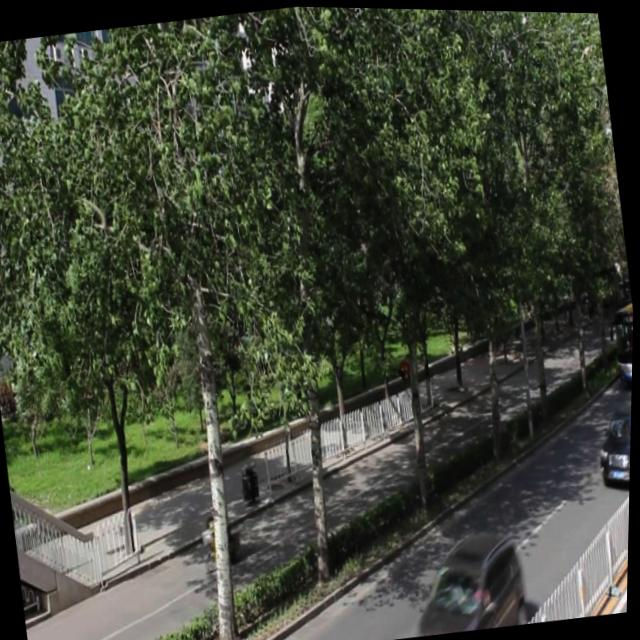car: (404, 522, 530, 637), (593, 396, 633, 485)
